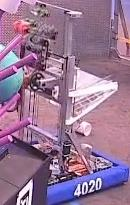blue_number: (71, 176, 104, 201)
